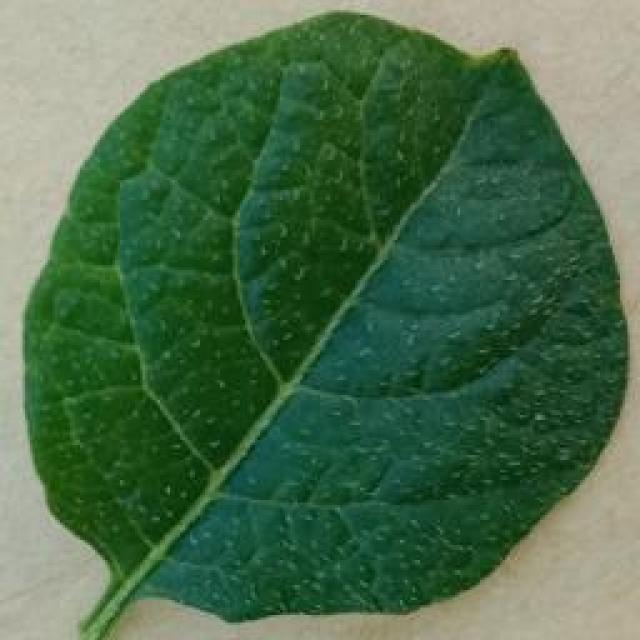Potato_Healthy: (22, 12, 616, 632)
